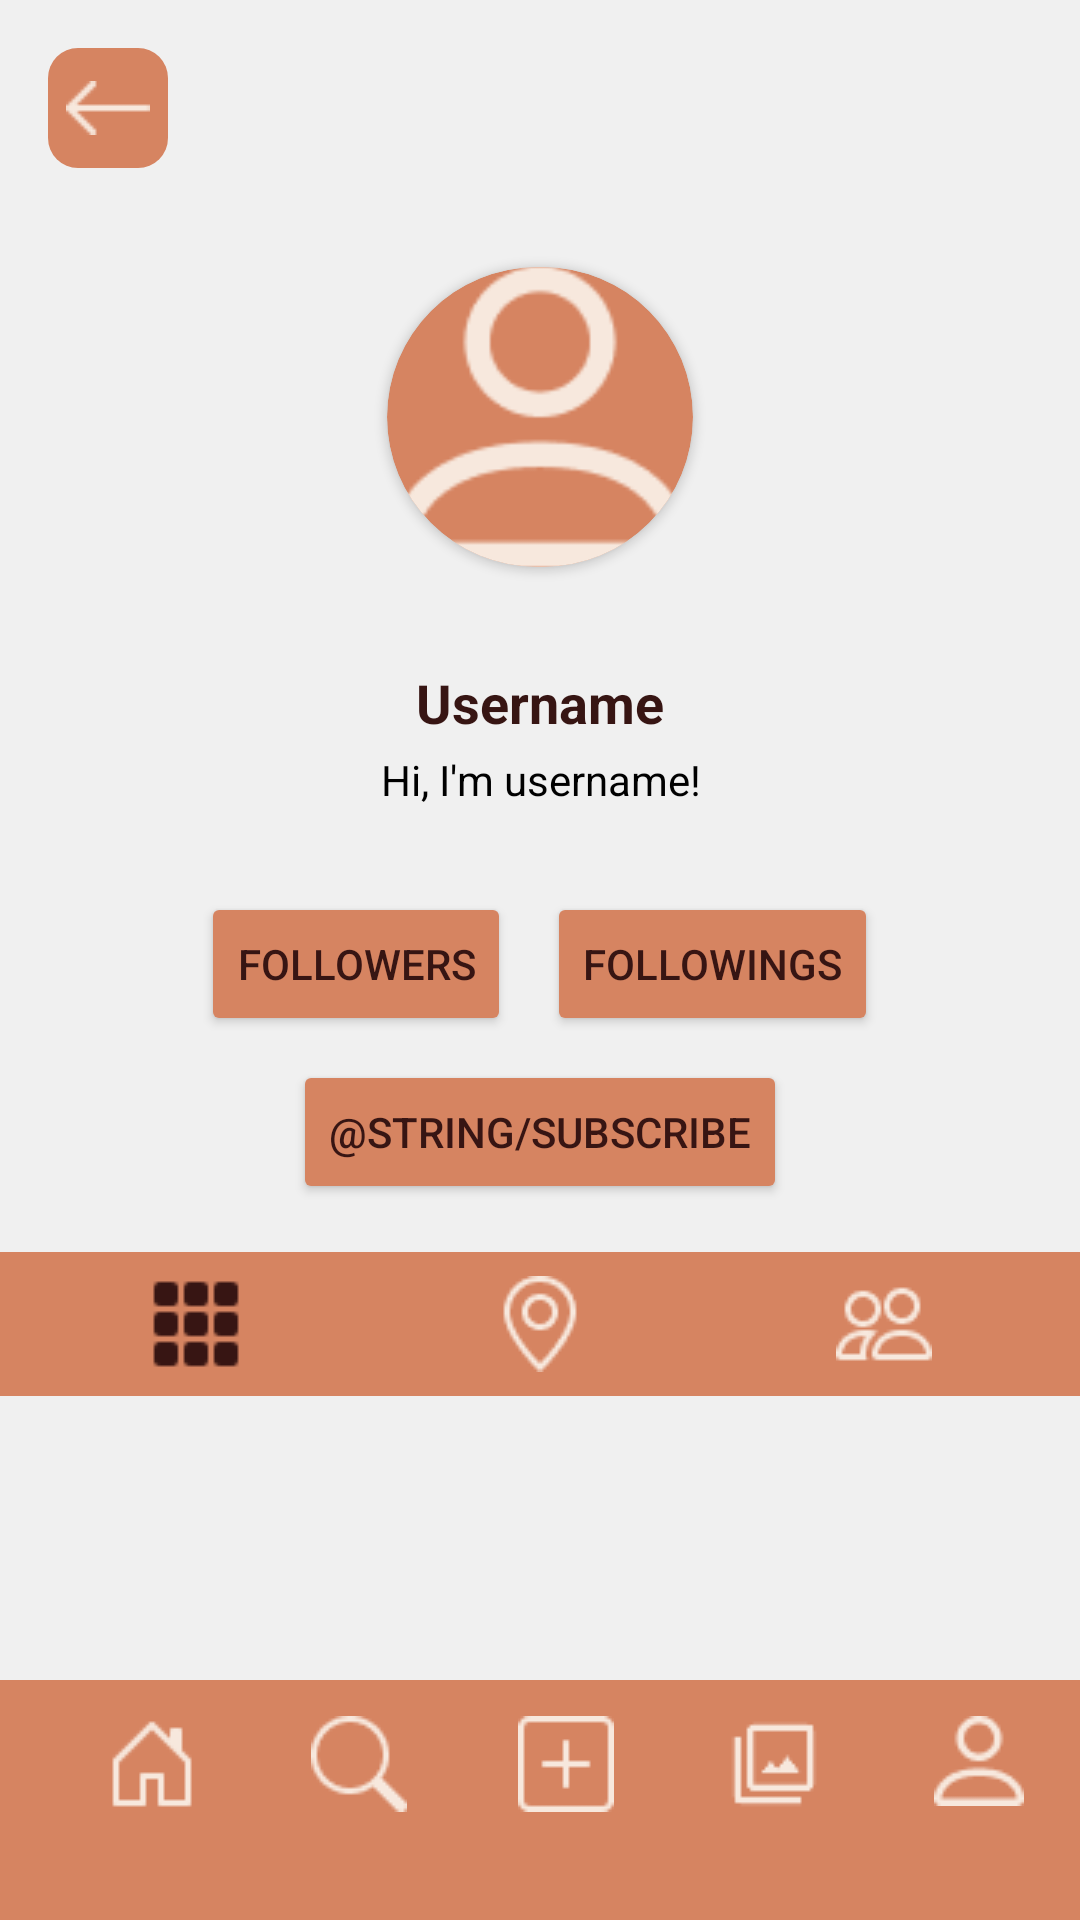

Point at icon controls on the screen. Image size 1080 x 1920, points as point (x, y).
geo: point (540, 1324)
grid gap: point (196, 1324)
house: point (152, 1764)
left arrow: point (108, 108)
people: point (884, 1324)
person: point (979, 1761)
plus square: point (566, 1764)
search: point (359, 1764)
